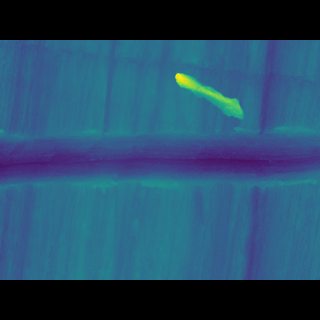Loch: (0, 129, 320, 187), (171, 93, 248, 130)
